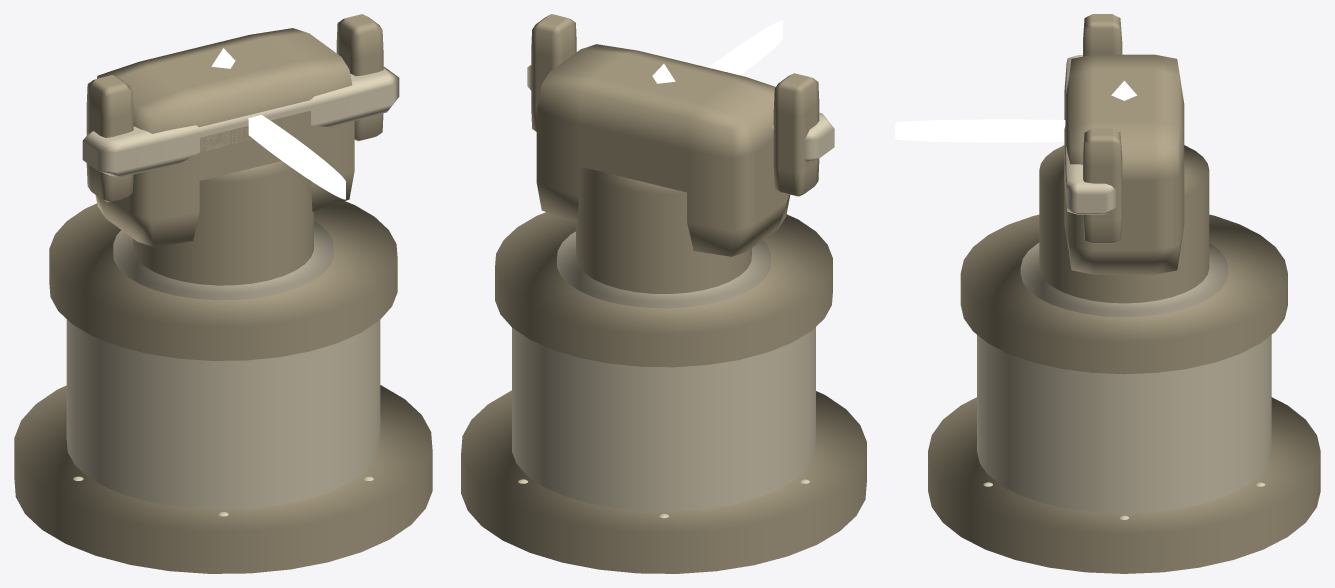
The model's file is ballista_l5.glb.
The picture shows the model from 3 angles, left to right: view 1: azimuth 30°, elevation 25°; view 2: azimuth 150°, elevation 25°; view 3: azimuth 270°, elevation 25°; orthographic projection. The views are drawn at different scales.
Parts seen in each view (by area): view 1: base, footing, baseCollar, frame, shaft, crossbow, lowerTrim, armL, armR, bolt; view 2: base, frame, footing, baseCollar, shaft, armL, lowerTrim, armR, bolt, crossbow; view 3: base, footing, baseCollar, frame, shaft, lowerTrim, bolt, armR, crossbow, armL.
Part boxes in pixels (x1,y1,x2,y2): base: (66, 319, 380, 509); footing: (14, 385, 432, 573); baseCollar: (49, 201, 397, 360); frame: (95, 28, 354, 246); shaft: (133, 161, 313, 285); crossbow: (82, 67, 399, 177); lowerTrim: (113, 221, 333, 300); armL: (86, 75, 133, 202); armR: (336, 14, 383, 141); bolt: (248, 115, 345, 199); base: (512, 327, 815, 511); frame: (536, 44, 790, 256); footing: (461, 390, 866, 573); baseCollar: (495, 212, 832, 367); shaft: (576, 166, 751, 293); armL: (773, 73, 819, 196); lowerTrim: (557, 231, 770, 308); armR: (531, 14, 576, 131); bolt: (708, 20, 782, 75); crossbow: (527, 65, 834, 161); base: (977, 335, 1271, 513); footing: (928, 397, 1320, 573); baseCollar: (960, 214, 1287, 374); frame: (1064, 54, 1184, 274); shaft: (1039, 145, 1209, 303); lowerTrim: (1020, 242, 1227, 317); bolt: (895, 119, 1065, 142); armR: (1083, 128, 1122, 243); crossbow: (1064, 55, 1115, 214); armL: (1083, 14, 1122, 56).
Size of the model in its own units: 1.8 by 2.1 by 1.95.
